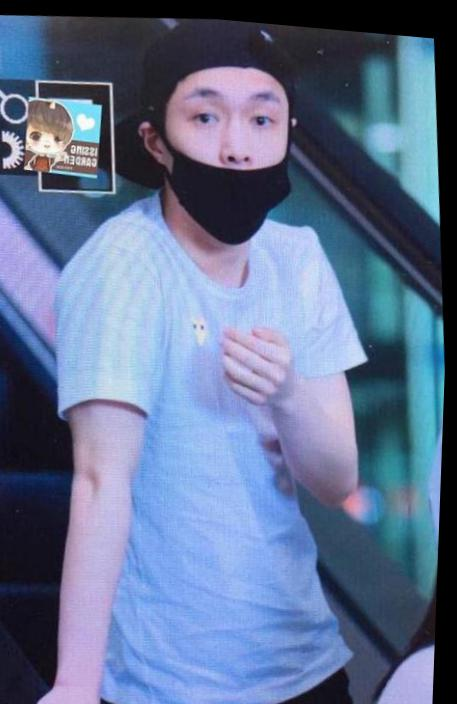WRONG: (159, 60, 304, 248)
